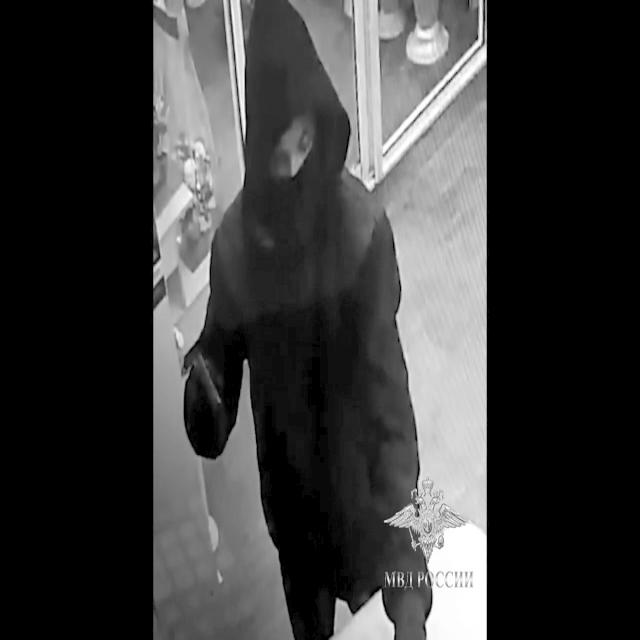gun: (189, 336, 227, 438)
person with a gun: (182, 0, 427, 640)
